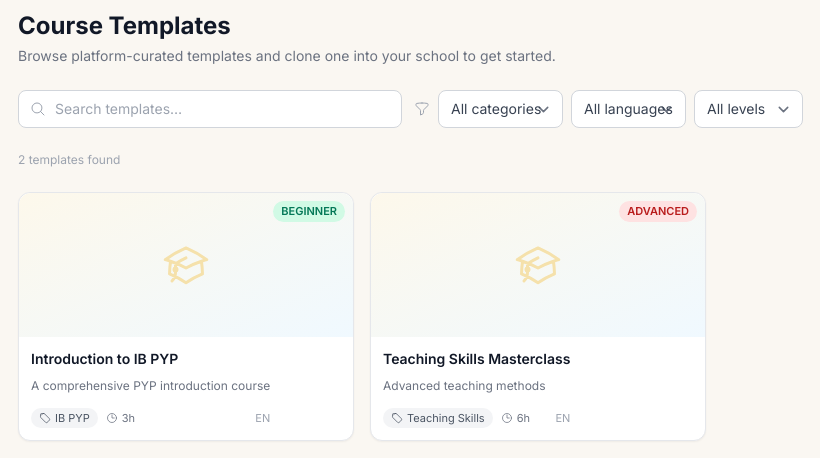
CourseTemplateGalleryPage › Client-side search › typing "IB PYP" shows only TEMPLATE_1 and updates count to "1 template found"
This screenshot has width=820, height=458.
Type "IB PYP" into the field with test id "search-input" at (210, 109), box x1=18 y1=90 x2=402 y2=128
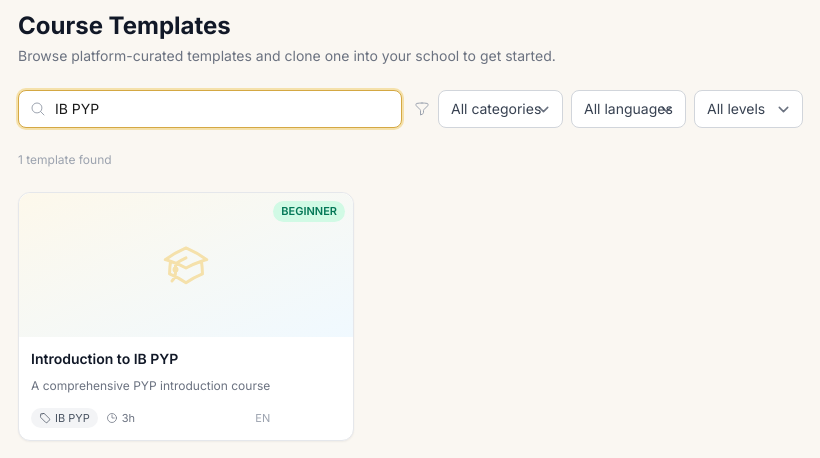
Check: the number of buttons with test id "template-card" is 1, box x1=18 y1=192 x2=354 y2=441
Check: the button "Teaching Skills Masterclass" is gone
Check: the text "1 template found" is shown, box x1=18 y1=152 x2=112 y2=167
